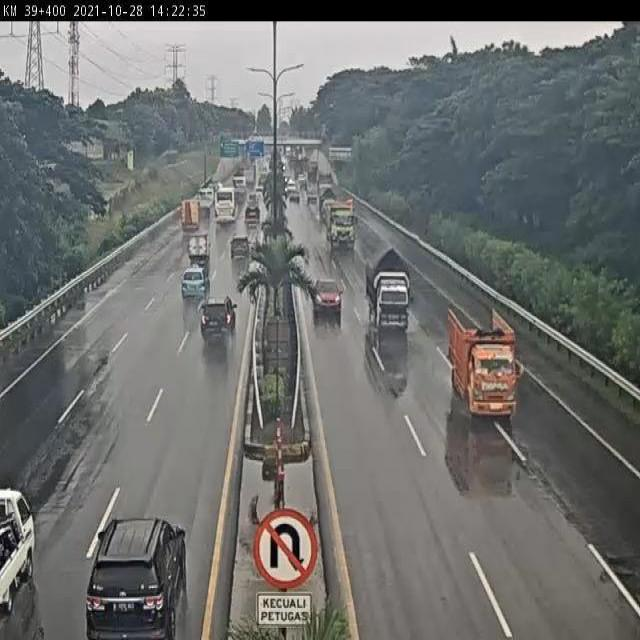car: (85, 517, 192, 640), (202, 296, 238, 343), (313, 274, 345, 318), (180, 264, 210, 300)
truck-l-: (324, 197, 359, 251)
truck-s-: (448, 306, 520, 418), (366, 247, 411, 333), (176, 196, 201, 233), (245, 208, 262, 232)
